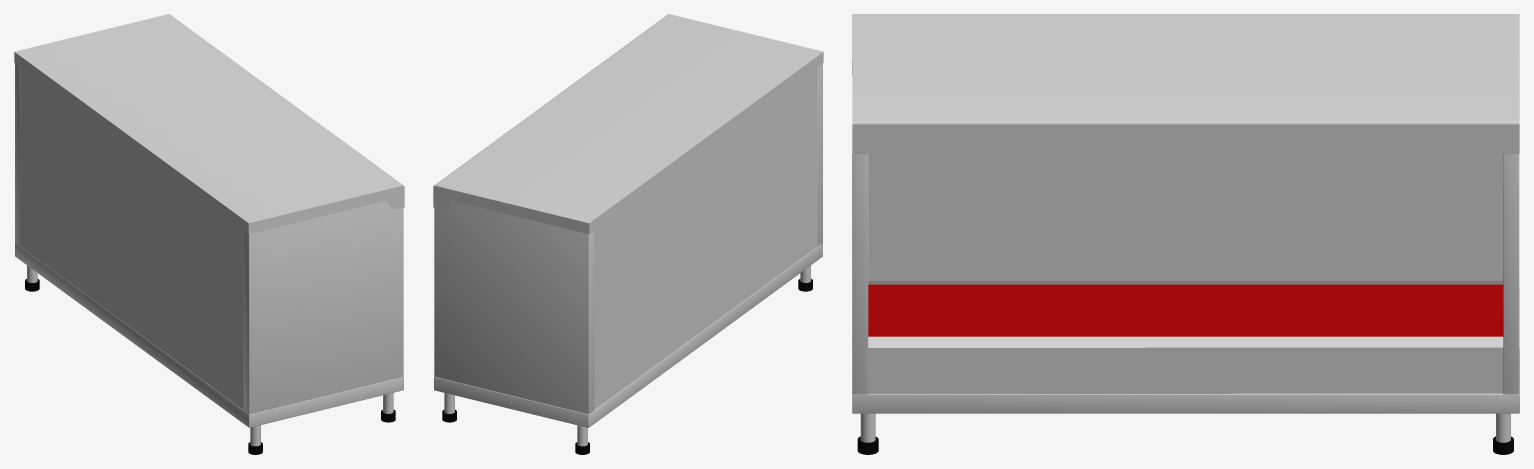
The model's file is KitchenRazdacha01_04b.FBX.
3 views of the same model, side by side, from view 1: azimuth 30°, elevation 25°; view 2: azimuth 150°, elevation 25°; view 3: azimuth 270°, elevation 25° (orthographic). The views are drawn at different scales.
Visible parts, largest first — view 1: Kitchen4b; view 2: Kitchen4b; view 3: Kitchen4b.
Boxes of the visible parts, x1,y1,x2,y2 form: Kitchen4b: (14,14,404,454); Kitchen4b: (433,14,823,454); Kitchen4b: (852,14,1519,454).
Bounding box in the file's own units: 24.54 × 35.41 × 63.85.
